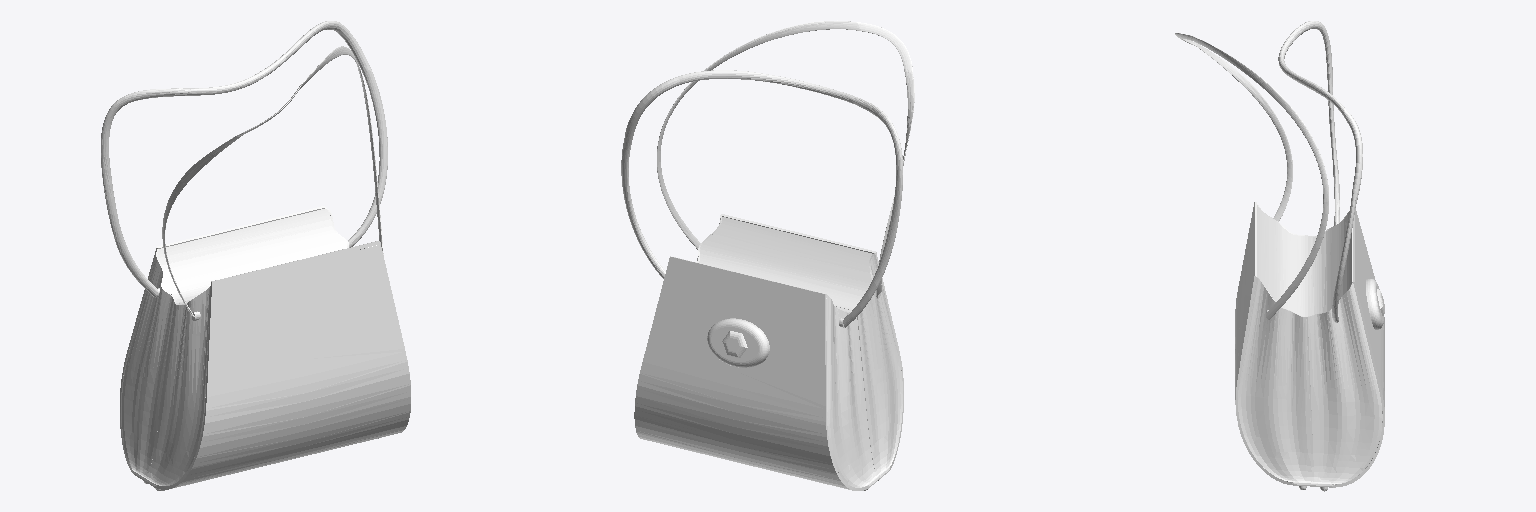
robot.urdf — handbag_ladies1:
<robot
  name="handbag_ladies1">
  <link
    name="handbag_ladies1">
    <inertial>
      <origin
        xyz="-3.3339E-05 0.0026754 -0.062308"
        rpy="0 0 0" />
      <mass
        value="0.18101" />
      <inertia
        ixx="0.000394822550012161"
        ixy="3.27726443917593E-06"
        ixz="-2.41808737317654E-06"
        iyy="0.00055603394312791"
        iyz="6.84393064276212E-06"
        izz="0.000321096616293339" />
    </inertial>
    <visual>
      <origin
        xyz="0 0 0"
        rpy="0 0 0" />
      <geometry>
        <mesh
          filename="package://handbag_ladies1/meshes/handbag_ladies1.dae" />
      </geometry>
      <material
        name="">
        <color
          rgba="1 1 1 1" />
      </material>
    </visual>
    <collision>
      <origin
        xyz="0 0 0"
        rpy="0 0 0" />
      <geometry>
        <mesh
          filename="package://handbag_ladies1/meshes/handbag_ladies1.dae" />
      </geometry>
    </collision>
  </link>
</robot>

--- Render facts (derived) ---
3 views of the same robot in one strip: view 1: azimuth 30°, elevation 25°; view 2: azimuth 150°, elevation 25°; view 3: azimuth 270°, elevation 25° (orthographic).
Model handbag_ladies1 with 1 links and 0 joints (none), rooted at handbag_ladies1, posed every joint at zero.
Visible links, largest first — view 1: handbag_ladies1; view 2: handbag_ladies1; view 3: handbag_ladies1.
Boxes of the visible links, left/top/right/bottom form: handbag_ladies1: left=101, top=21, right=410, bottom=490; handbag_ladies1: left=621, top=20, right=914, bottom=490; handbag_ladies1: left=1175, top=21, right=1384, bottom=491.
Size in the robot's own frame: 0.1756 by 0.1194 by 0.2483 metres.
Meshes: 1 distinct files referenced, 1 mesh visuals loaded (1 Collada DAE).